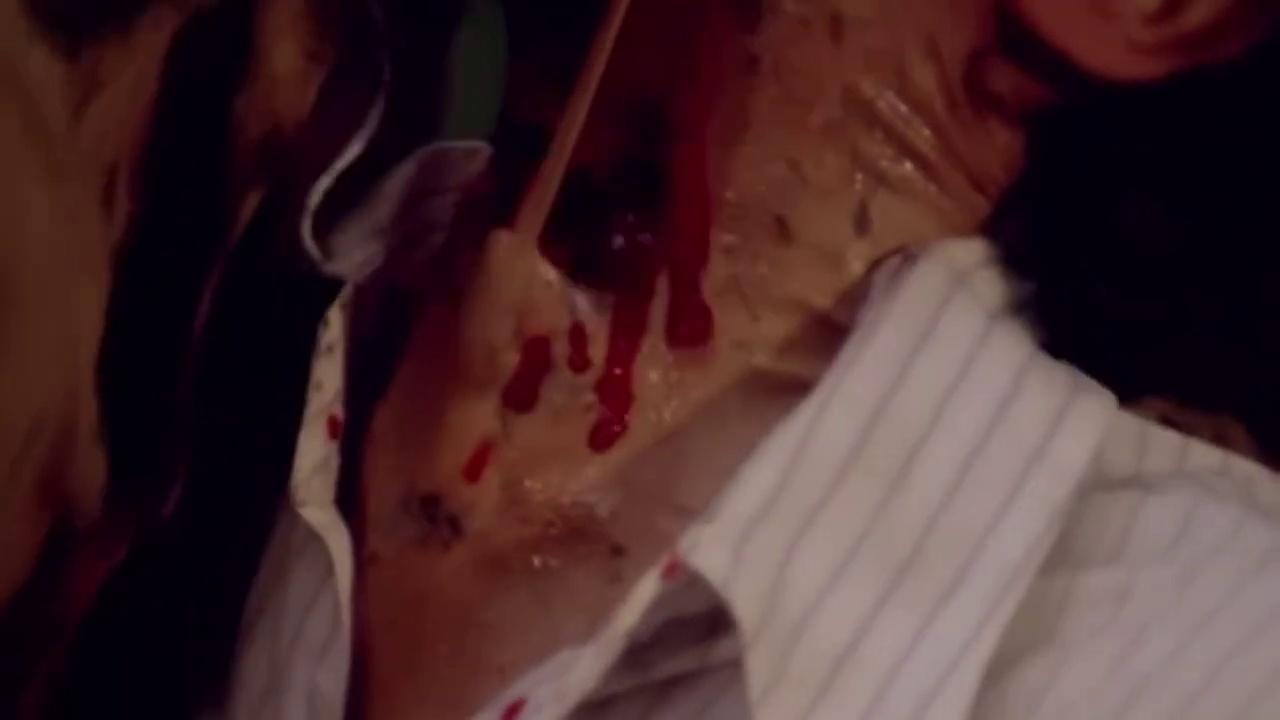Fire: (429, 0, 758, 490)
